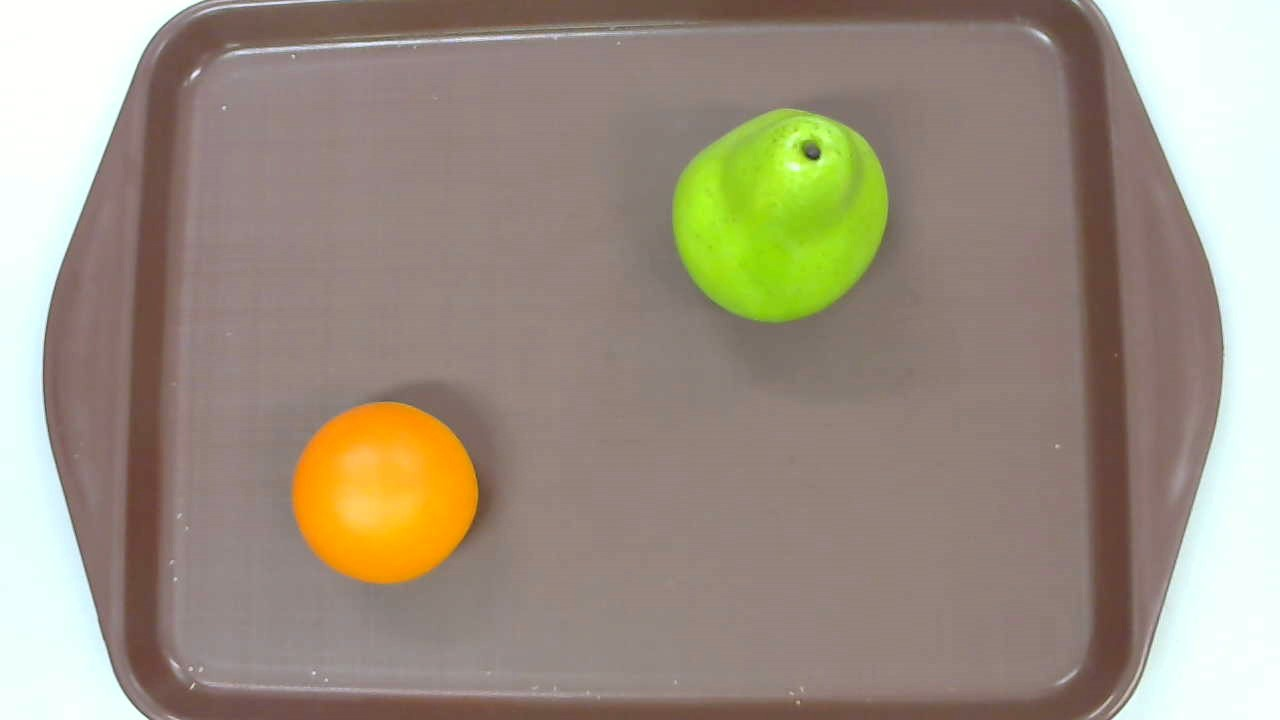bun: (290, 401, 478, 584)
green pear: (670, 108, 889, 322)
